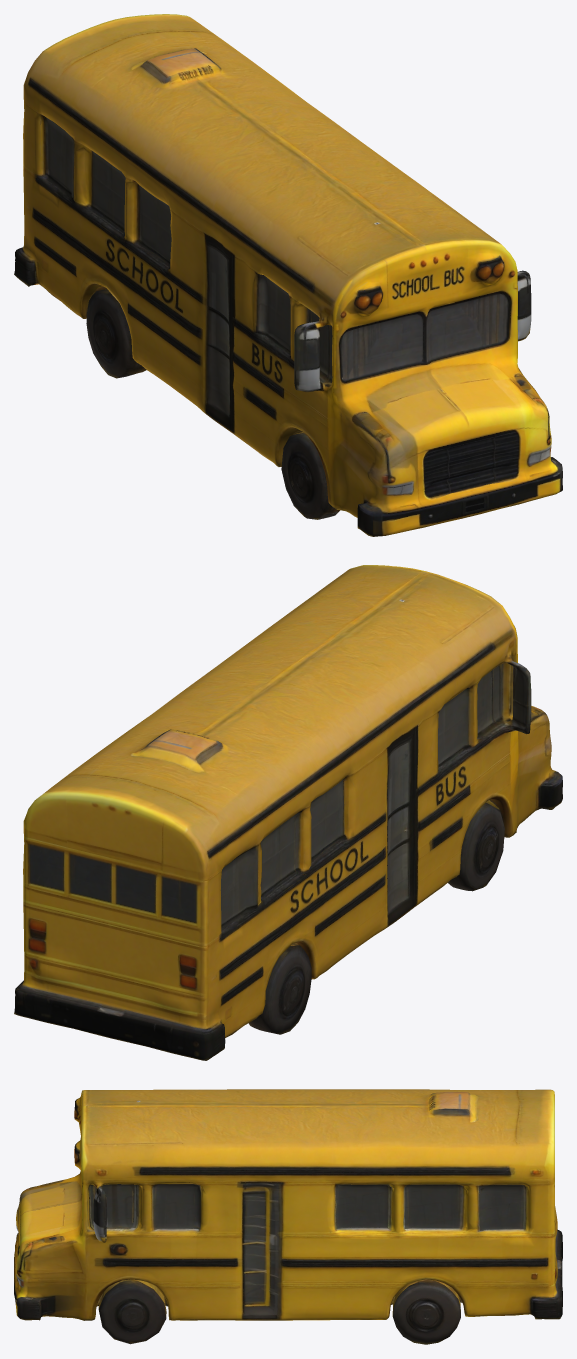
Rendered from yellow_school_bus.glb.
3 views of the same model, one above another, from view 1: azimuth 30°, elevation 25°; view 2: azimuth 150°, elevation 25°; view 3: azimuth 270°, elevation 25° (orthographic). The views are drawn at different scales.
Visible parts, largest first — view 1: Object_4; view 2: Object_4; view 3: Object_4.
Part boxes in pixels (left/top/right/bottom): Object_4: left=14, top=14, right=562, bottom=536; Object_4: left=14, top=565, right=562, bottom=1060; Object_4: left=14, top=1089, right=562, bottom=1344.
Size of the model in its own units: 0.7474 by 0.8548 by 2.
1 material, 1 textured.
